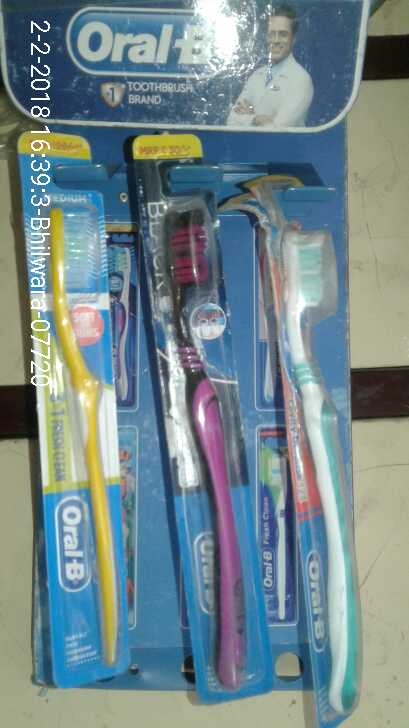oralb: (149, 152, 260, 693), (269, 205, 383, 728), (46, 189, 154, 691)
